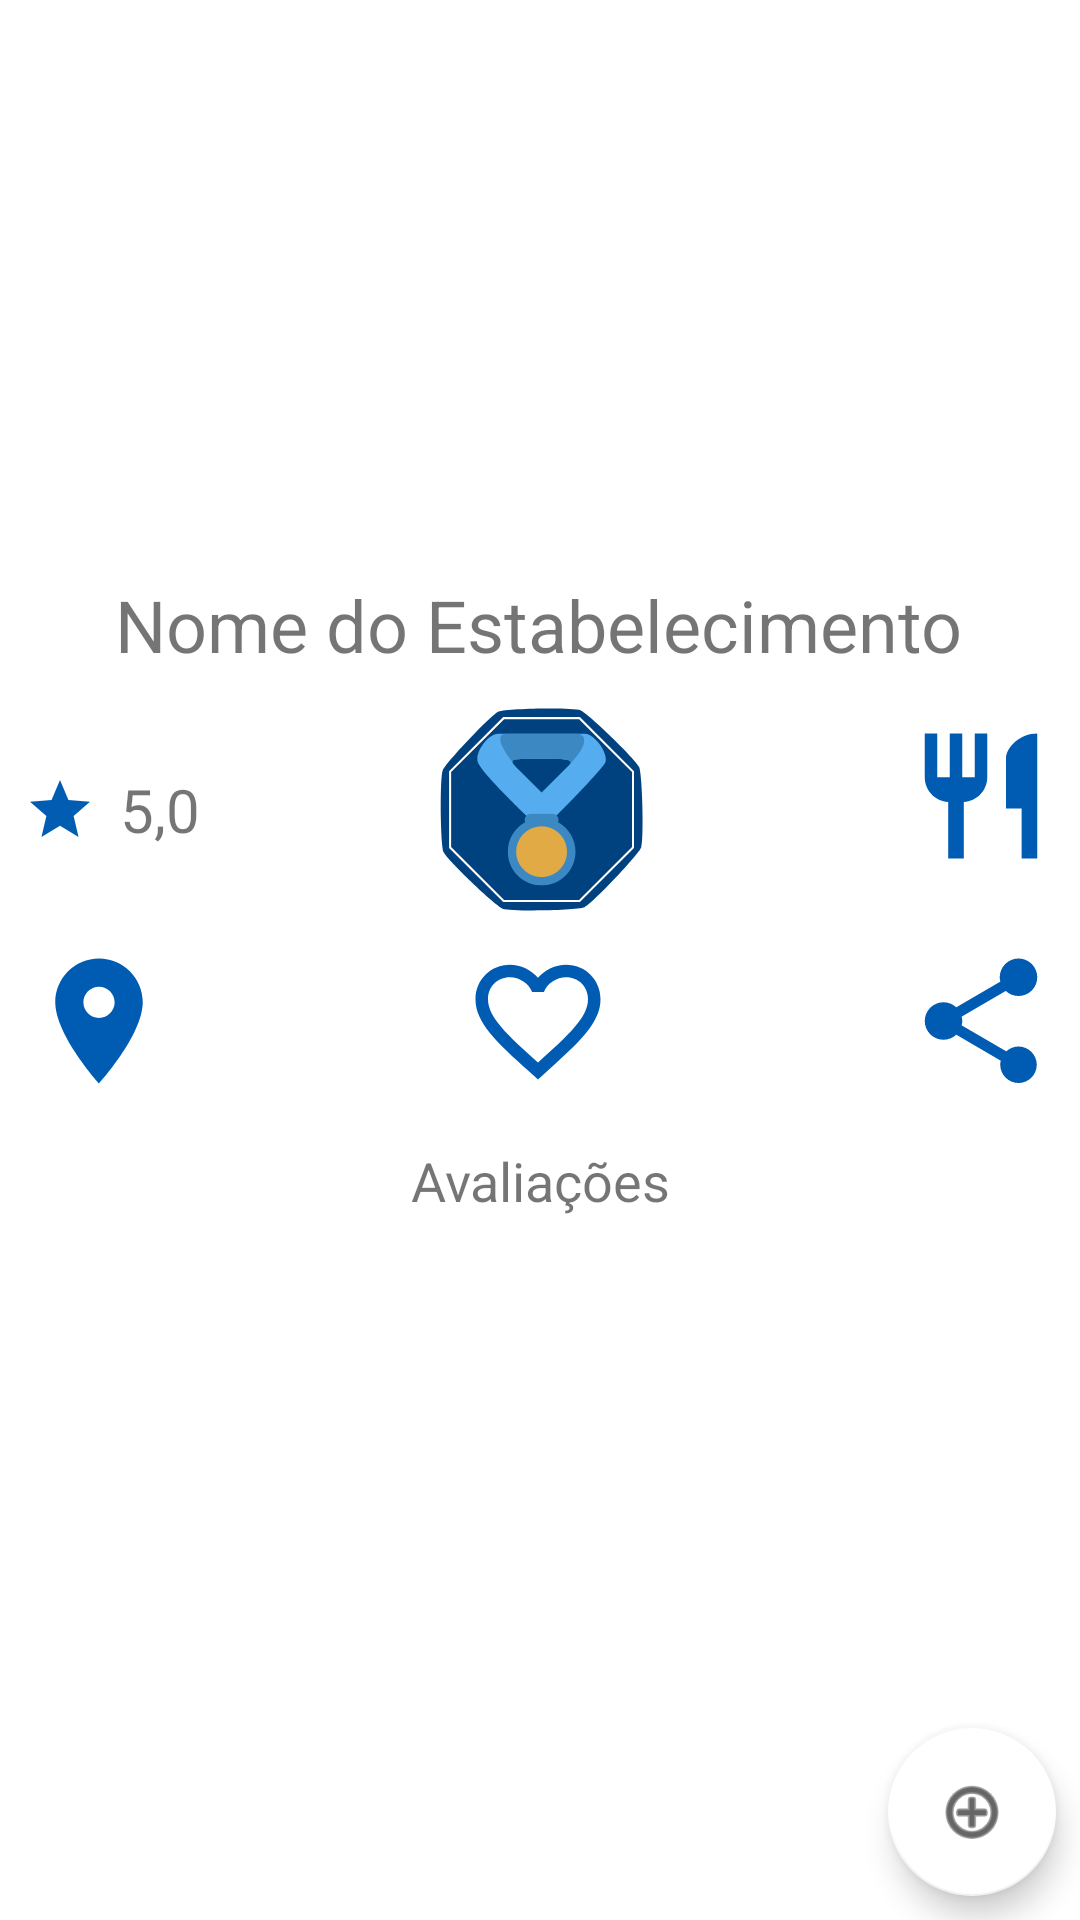

Locate icon controls on the screen. Image size 1080*1920, boxes as (x1, y1, x2, y2).
favorite border: (475, 964, 601, 1080)
location on: (55, 958, 143, 1084)
restaurant: (924, 733, 1038, 859)
seloouro: (440, 708, 643, 911)
share: (924, 958, 1038, 1083)
star: (30, 780, 90, 837)
